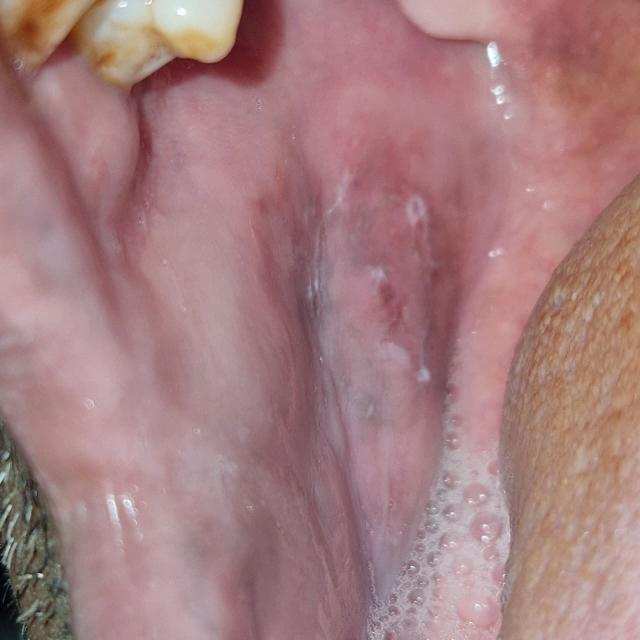leukoplakia-like-detection: (21, 93, 494, 640)
processing_area: (0, 0, 640, 640)
